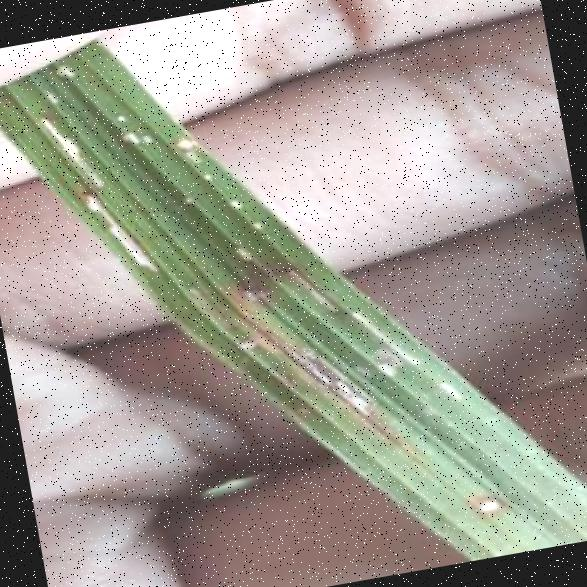Leaf_smut: (271, 314, 388, 454), (266, 233, 370, 333), (24, 95, 116, 205), (80, 181, 170, 288), (212, 254, 298, 332), (178, 264, 238, 349), (276, 380, 335, 431)
